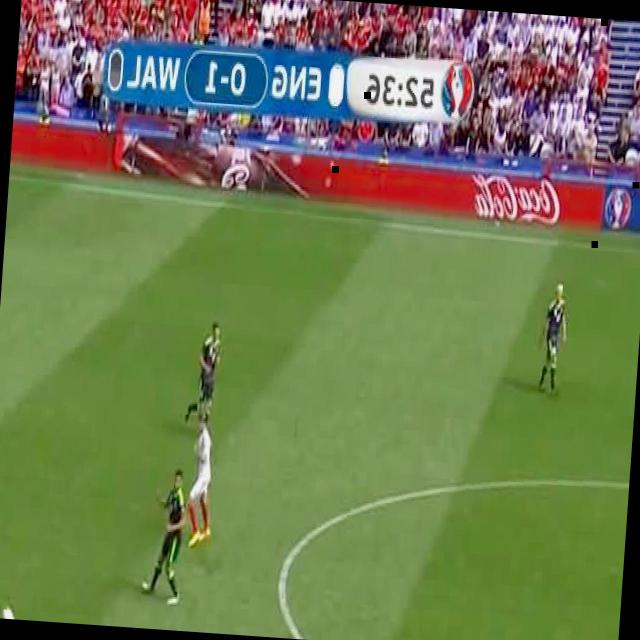ball: (2, 606, 17, 620)
player-white: (139, 467, 191, 608), (185, 412, 219, 550), (184, 322, 224, 439), (538, 282, 571, 398)
